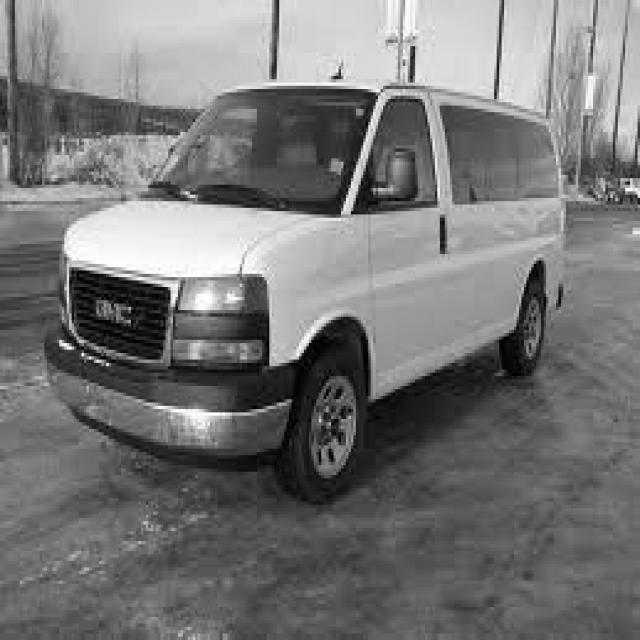car: (42, 76, 566, 501)
